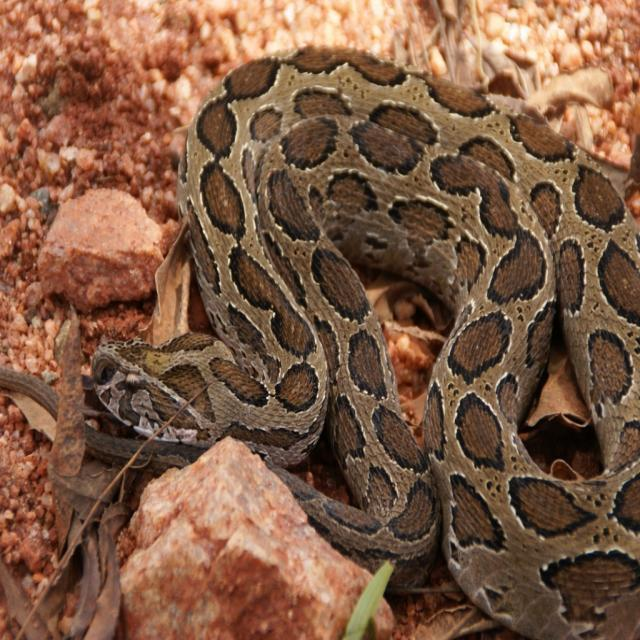Snake: (82, 42, 638, 638)
